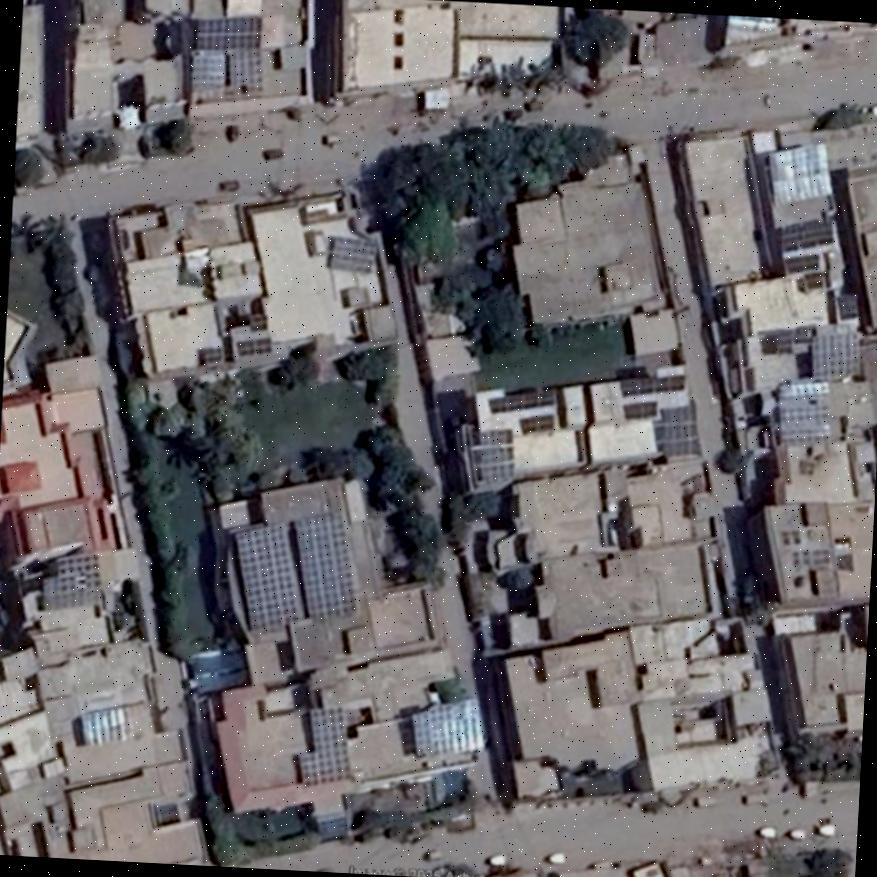Solarpanel: (233, 520, 305, 630), (294, 514, 355, 618), (187, 14, 259, 88), (287, 705, 354, 784), (411, 702, 484, 755), (659, 407, 702, 459), (813, 331, 859, 376), (78, 705, 126, 745), (477, 431, 512, 478), (488, 390, 556, 413), (326, 240, 376, 269), (778, 222, 832, 248), (619, 375, 687, 394), (518, 411, 554, 433), (782, 254, 816, 273), (236, 338, 272, 355), (623, 401, 655, 416), (805, 269, 823, 286)
